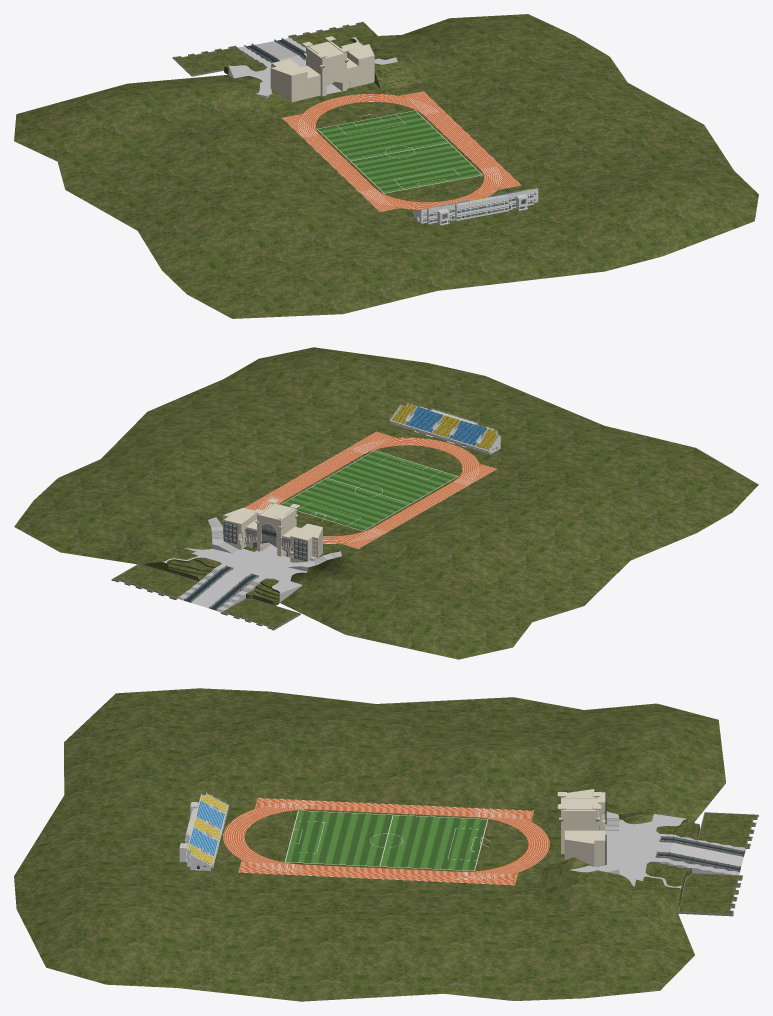
Rendered from gzl_tiyuchang.FBX.
3 renders of one model, top to bottom at view 1: azimuth 30°, elevation 25°; view 2: azimuth 150°, elevation 25°; view 3: azimuth 270°, elevation 25°, orthographic. The views are drawn at different scales.
Parts seen in each view (by area): view 1: gzl_tiyuchang, Box02, Arc02, gzl_tiyuguan, Box01, Line013, Rectangle01, Line25; view 2: gzl_tiyuchang, Box02, Arc02, Line013, gzl_tiyuguan, Box01, Line43, Rectangle01; view 3: gzl_tiyuchang, Box02, Arc02, Box01, Line013, gzl_tiyuguan, Line43, Rectangle01.
Part boxes in pixels (bbox=[...]): gzl_tiyuchang: bbox=[14, 14, 758, 318]; Box02: bbox=[318, 111, 481, 193]; Arc02: bbox=[282, 91, 521, 211]; gzl_tiyuguan: bbox=[270, 36, 374, 102]; Box01: bbox=[282, 91, 520, 211]; Line013: bbox=[228, 37, 397, 98]; Rectangle01: bbox=[413, 188, 538, 225]; Line25: bbox=[423, 191, 536, 222]; gzl_tiyuchang: bbox=[14, 347, 758, 659]; Box02: bbox=[281, 450, 457, 530]; Arc02: bbox=[244, 431, 496, 548]; Line013: bbox=[162, 517, 341, 612]; gzl_tiyuguan: bbox=[223, 498, 322, 562]; Box01: bbox=[245, 432, 496, 548]; Line43: bbox=[390, 404, 499, 450]; Rectangle01: bbox=[389, 403, 500, 454]; gzl_tiyuchang: bbox=[14, 688, 758, 1001]; Box02: bbox=[285, 810, 487, 870]; Arc02: bbox=[223, 798, 549, 885]; Box01: bbox=[223, 798, 549, 885]; Line013: bbox=[570, 811, 746, 888]; gzl_tiyuguan: bbox=[557, 789, 606, 867]; Line43: bbox=[180, 794, 228, 870]; Rectangle01: bbox=[179, 793, 228, 870].
Bounding box in the file's own units: 404541 × 38331 × 406470.
